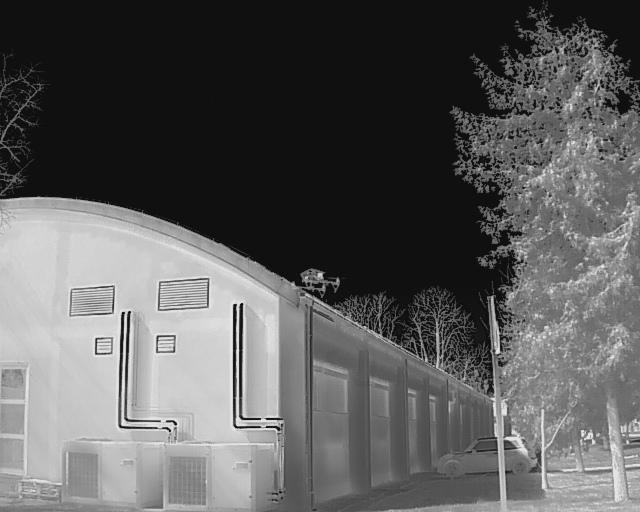drone: (280, 264, 338, 306)
